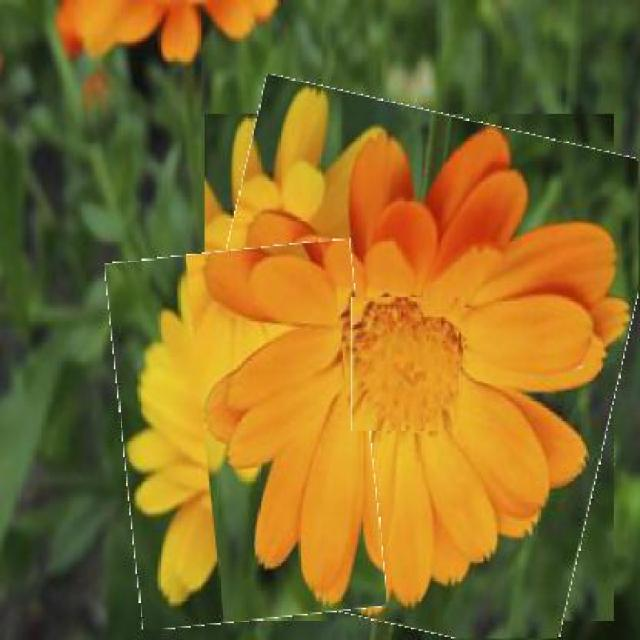Flower: (179, 94, 639, 638), (114, 246, 378, 626), (351, 297, 460, 432)
